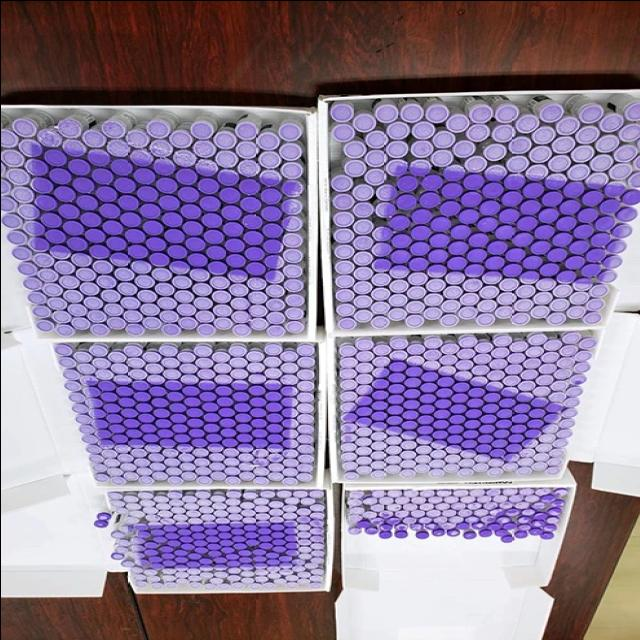vial: (34, 128, 59, 146), (278, 178, 302, 196), (278, 160, 302, 177), (24, 156, 46, 174), (44, 148, 66, 166), (214, 150, 237, 167), (28, 177, 52, 193), (276, 124, 300, 140), (70, 176, 92, 193), (0, 149, 22, 166), (154, 176, 177, 192), (152, 157, 172, 175), (214, 130, 234, 148), (75, 193, 96, 210), (408, 157, 430, 173), (441, 164, 463, 180), (460, 173, 482, 189), (100, 220, 122, 236), (95, 186, 117, 202), (108, 158, 130, 174), (260, 168, 282, 184), (148, 121, 170, 137), (620, 123, 639, 141), (472, 105, 492, 122), (49, 167, 69, 184), (397, 176, 418, 192), (597, 136, 618, 152), (556, 118, 577, 134), (409, 138, 430, 154), (85, 148, 106, 164), (82, 130, 103, 146), (202, 244, 225, 258), (32, 194, 55, 208), (278, 144, 301, 158), (540, 104, 560, 120), (434, 130, 454, 146), (551, 231, 571, 247), (465, 156, 485, 172), (520, 182, 540, 198), (22, 219, 42, 235), (182, 220, 202, 236), (135, 185, 155, 201), (134, 167, 154, 183), (108, 140, 128, 156), (126, 130, 146, 146), (257, 133, 277, 149), (88, 242, 109, 257), (600, 115, 622, 129), (590, 156, 612, 170), (399, 106, 421, 120), (412, 123, 434, 137), (496, 106, 518, 120), (429, 149, 451, 163), (439, 184, 461, 198), (532, 128, 554, 142), (542, 174, 564, 188), (548, 156, 570, 170), (124, 244, 146, 258), (58, 203, 80, 217), (10, 187, 32, 201), (241, 245, 263, 259), (280, 231, 302, 245), (18, 140, 40, 154), (150, 142, 172, 156), (100, 122, 122, 136), (258, 153, 280, 167), (330, 174, 349, 190), (368, 130, 387, 146), (171, 131, 190, 147), (386, 140, 406, 155), (498, 208, 518, 223), (516, 215, 536, 230), (552, 136, 572, 151), (221, 205, 241, 220), (174, 151, 194, 166), (193, 141, 213, 156), (465, 248, 486, 262), (331, 126, 352, 140), (332, 106, 353, 120), (426, 106, 447, 120), (149, 252, 170, 266), (119, 212, 140, 226), (156, 195, 177, 209), (237, 160, 258, 174), (419, 191, 437, 207), (461, 190, 479, 206), (70, 158, 88, 174), (200, 178, 218, 194), (456, 210, 478, 223), (505, 157, 527, 170), (558, 200, 580, 213), (176, 187, 198, 200), (354, 184, 374, 198), (344, 160, 364, 174), (365, 170, 385, 184), (366, 150, 386, 164), (344, 142, 364, 156), (581, 106, 601, 120), (610, 164, 630, 178), (438, 201, 458, 215), (447, 116, 467, 130), (516, 117, 536, 131), (570, 146, 590, 160), (452, 141, 472, 155), (482, 183, 502, 197), (500, 191, 520, 205), (503, 174, 523, 188), (524, 164, 544, 178), (563, 182, 583, 196), (530, 148, 550, 162), (28, 237, 48, 251), (64, 236, 84, 250), (44, 228, 64, 242), (186, 252, 206, 266), (166, 244, 186, 258), (123, 228, 143, 242), (80, 211, 100, 225), (40, 212, 60, 226), (283, 248, 303, 262), (262, 239, 282, 253), (203, 228, 223, 242), (6, 168, 26, 182), (140, 202, 160, 216), (117, 194, 137, 208), (261, 222, 281, 236), (260, 206, 280, 220), (240, 197, 260, 211), (14, 121, 34, 135), (196, 160, 216, 174), (175, 168, 195, 182), (131, 150, 151, 164), (64, 140, 84, 154), (236, 142, 256, 156), (192, 122, 212, 136), (235, 122, 255, 136), (69, 252, 90, 265), (281, 200, 302, 213), (376, 106, 394, 121), (374, 202, 393, 216), (388, 124, 407, 138), (537, 208, 556, 222), (224, 238, 243, 252), (220, 188, 239, 202), (95, 170, 114, 184), (575, 128, 597, 140), (492, 126, 514, 138), (408, 225, 428, 238), (494, 225, 514, 238), (510, 139, 530, 152), (484, 165, 504, 178), (540, 192, 560, 205), (599, 201, 619, 214), (263, 255, 283, 268), (224, 255, 244, 268), (145, 236, 165, 249), (184, 237, 204, 250), (142, 220, 162, 233), (53, 187, 73, 200), (222, 223, 242, 236), (260, 189, 280, 202), (239, 180, 259, 193), (216, 170, 236, 183), (537, 223, 553, 239), (426, 262, 444, 276), (376, 186, 394, 200), (355, 116, 373, 130), (616, 146, 634, 160), (480, 200, 498, 214), (570, 240, 588, 254), (520, 200, 538, 214), (587, 173, 605, 187), (16, 262, 34, 276), (110, 252, 128, 266), (170, 260, 188, 274), (107, 236, 125, 250), (64, 220, 82, 234), (285, 278, 303, 292), (20, 204, 38, 218), (164, 228, 182, 242), (100, 203, 118, 217), (162, 212, 180, 226), (180, 204, 198, 218), (282, 216, 300, 230), (113, 178, 134, 190), (387, 160, 406, 173), (49, 245, 68, 258), (244, 230, 263, 243), (200, 197, 219, 210), (332, 212, 352, 224), (388, 216, 408, 228), (616, 208, 636, 220), (477, 218, 497, 230), (512, 233, 532, 245), (529, 240, 549, 252), (579, 263, 599, 275), (467, 126, 487, 138), (484, 146, 504, 158), (572, 225, 592, 237), (594, 218, 614, 230), (36, 268, 56, 280), (90, 260, 110, 272), (133, 276, 153, 288), (153, 282, 173, 294), (188, 268, 208, 280), (264, 270, 284, 282), (244, 262, 264, 274), (202, 214, 222, 226), (372, 258, 389, 272), (389, 264, 406, 278), (410, 242, 428, 255), (334, 195, 352, 208), (429, 233, 447, 246), (582, 192, 600, 205), (570, 165, 588, 178), (608, 183, 626, 196), (35, 253, 53, 266), (6, 231, 24, 244), (114, 268, 132, 281), (242, 215, 260, 228), (333, 274, 352, 286), (564, 256, 583, 268), (584, 248, 603, 260), (246, 278, 265, 290), (207, 261, 226, 273), (0, 130, 15, 145), (391, 278, 407, 292), (524, 254, 540, 268), (422, 175, 439, 188), (483, 257, 503, 268), (527, 332, 545, 344), (336, 303, 354, 315), (352, 309, 370, 321), (369, 300, 387, 312), (387, 307, 405, 319), (406, 300, 424, 312), (334, 261, 352, 273), (406, 285, 424, 297), (334, 244, 352, 256), (408, 272, 426, 284), (408, 258, 426, 270), (391, 234, 409, 246), (428, 250, 446, 262), (448, 257, 466, 269), (396, 196, 414, 208), (411, 210, 429, 222), (488, 241, 506, 253), (556, 270, 574, 282), (612, 224, 630, 236), (546, 248, 564, 260), (557, 216, 575, 228), (578, 210, 596, 222), (64, 290, 82, 302), (59, 275, 77, 287), (140, 302, 158, 314), (120, 296, 138, 308), (76, 268, 94, 280), (54, 260, 72, 272), (136, 289, 154, 301), (157, 296, 175, 308), (132, 260, 150, 272), (213, 304, 231, 316), (192, 283, 210, 295), (284, 306, 302, 318), (209, 276, 227, 288), (85, 229, 103, 241), (282, 264, 300, 276), (123, 344, 142, 355), (355, 203, 371, 216), (432, 217, 448, 230), (623, 190, 639, 203), (592, 233, 608, 246), (85, 295, 101, 308), (2, 215, 18, 228), (1, 197, 14, 213), (203, 411, 220, 423), (389, 294, 406, 306), (354, 252, 371, 264), (335, 230, 352, 242), (462, 278, 479, 290), (174, 290, 191, 302), (177, 316, 194, 328), (153, 267, 170, 279), (260, 378, 280, 388), (368, 288, 388, 298), (42, 284, 62, 294), (122, 311, 142, 321), (116, 284, 136, 294), (130, 380, 148, 391), (561, 331, 579, 342), (337, 318, 355, 329), (477, 301, 495, 312), (502, 264, 520, 275), (519, 271, 537, 282), (78, 282, 96, 293), (212, 317, 230, 328), (148, 384, 164, 396), (426, 278, 442, 290), (354, 236, 370, 248), (354, 220, 370, 232), (516, 284, 532, 296), (536, 278, 552, 290), (451, 226, 467, 238), (506, 248, 522, 260), (250, 304, 266, 316), (266, 298, 282, 310), (266, 284, 282, 296), (229, 390, 248, 400), (173, 276, 190, 287), (134, 389, 148, 402), (100, 403, 118, 413), (164, 390, 182, 400), (146, 374, 164, 384), (248, 374, 266, 384), (178, 363, 196, 373), (158, 345, 176, 355), (439, 344, 457, 354), (544, 338, 562, 348), (353, 282, 371, 292), (373, 272, 388, 284), (441, 300, 459, 310), (496, 294, 514, 304), (448, 242, 466, 252), (586, 299, 604, 309), (608, 241, 626, 251), (46, 298, 64, 308), (103, 304, 121, 314), (98, 276, 116, 286), (13, 248, 31, 258), (158, 311, 176, 321), (161, 324, 179, 334), (232, 324, 250, 334), (230, 298, 248, 308), (232, 310, 250, 320), (248, 318, 266, 328), (284, 320, 302, 330), (284, 295, 302, 305), (228, 284, 246, 294), (354, 268, 370, 279), (604, 256, 620, 267), (142, 317, 158, 328), (228, 270, 244, 281), (96, 380, 113, 390), (247, 362, 264, 372), (230, 368, 247, 378), (213, 374, 230, 384), (213, 362, 230, 372), (280, 350, 297, 360), (107, 352, 124, 362), (89, 344, 106, 354), (422, 350, 439, 360), (440, 354, 457, 364), (424, 308, 441, 318), (477, 313, 494, 323), (177, 304, 194, 314), (196, 311, 213, 321), (266, 326, 283, 336), (467, 264, 481, 276), (626, 106, 640, 118), (373, 243, 388, 254), (391, 250, 406, 261), (212, 352, 230, 361), (127, 438, 143, 448), (97, 438, 113, 448), (296, 414, 312, 424), (280, 407, 296, 417), (138, 412, 154, 422), (100, 392, 116, 402), (217, 407, 233, 417), (202, 402, 218, 412), (233, 402, 249, 412), (182, 385, 198, 395), (164, 379, 180, 389), (297, 402, 313, 412), (264, 401, 280, 411), (248, 396, 264, 406), (297, 392, 313, 402), (248, 385, 264, 395), (198, 368, 214, 378), (281, 362, 297, 372), (246, 351, 262, 361), (298, 356, 314, 366), (229, 344, 245, 354), (194, 345, 210, 355), (178, 352, 194, 362), (144, 352, 160, 362), (74, 352, 90, 362), (340, 412, 356, 422), (355, 406, 371, 416), (340, 380, 356, 390), (524, 428, 540, 438), (435, 398, 451, 408), (371, 378, 387, 388), (339, 345, 355, 355), (372, 356, 388, 366), (389, 362, 405, 372), (498, 397, 514, 407), (512, 402, 528, 412), (356, 340, 372, 350), (420, 360, 436, 370), (485, 380, 501, 390), (516, 392, 532, 402), (536, 374, 552, 384), (476, 342, 492, 352), (538, 362, 554, 372), (573, 362, 589, 372), (578, 338, 594, 348), (372, 316, 388, 326), (335, 290, 351, 300), (354, 296, 370, 306), (407, 315, 423, 325), (496, 306, 512, 316), (512, 314, 528, 324), (446, 272, 462, 282), (479, 286, 495, 296), (514, 300, 530, 310), (549, 313, 565, 323), (500, 278, 516, 288), (568, 306, 584, 316), (554, 285, 570, 295), (571, 292, 587, 302), (574, 279, 590, 289), (591, 285, 607, 295), (600, 272, 616, 282), (31, 306, 47, 316), (52, 310, 68, 320), (72, 318, 88, 328), (92, 324, 108, 334), (68, 304, 84, 314), (27, 292, 43, 302), (108, 318, 124, 328), (102, 290, 118, 300), (197, 324, 213, 334), (194, 297, 210, 307), (212, 292, 228, 302), (268, 312, 284, 322), (248, 292, 264, 302), (544, 411, 558, 422), (455, 360, 472, 369), (88, 312, 105, 321), (120, 407, 135, 417), (298, 380, 313, 390), (386, 414, 401, 424), (356, 351, 371, 361), (467, 386, 482, 396), (483, 392, 498, 402), (373, 344, 388, 354), (406, 354, 421, 364), (391, 338, 406, 348), (408, 344, 423, 354), (475, 353, 490, 363), (494, 336, 509, 346), (459, 308, 474, 318), (444, 286, 459, 296), (461, 294, 476, 304), (374, 228, 389, 238), (484, 271, 499, 281), (471, 235, 486, 245), (541, 264, 556, 274), (629, 172, 639, 187), (36, 320, 51, 330), (146, 462, 164, 470), (156, 438, 174, 446), (107, 423, 123, 432), (152, 418, 170, 426), (170, 423, 188, 431), (250, 429, 266, 438), (151, 408, 167, 417), (86, 399, 102, 408), (185, 408, 201, 417), (249, 407, 265, 416), (110, 364, 128, 372), (199, 380, 215, 389), (281, 386, 297, 395), (231, 380, 247, 389), (146, 363, 162, 372), (230, 357, 246, 366), (296, 346, 314, 354), (162, 357, 178, 366), (356, 384, 372, 393), (402, 399, 418, 408), (543, 403, 561, 411), (534, 387, 550, 396), (548, 392, 564, 401), (423, 337, 439, 346), (523, 360, 541, 368), (510, 341, 526, 350), (541, 352, 557, 361), (0, 178, 9, 194), (196, 466, 210, 476), (123, 418, 137, 428), (78, 424, 92, 434), (106, 412, 120, 422), (84, 386, 98, 396), (170, 402, 184, 412), (152, 398, 166, 408), (96, 369, 110, 379), (58, 356, 72, 366), (184, 396, 198, 406), (216, 385, 230, 395), (266, 356, 280, 366), (56, 345, 70, 355), (371, 420, 385, 430), (340, 402, 354, 412), (433, 418, 447, 428), (372, 400, 386, 410), (420, 392, 434, 402), (438, 376, 452, 386), (528, 407, 542, 417), (390, 350, 404, 360), (552, 380, 566, 390), (442, 314, 456, 324), (424, 294, 438, 304), (57, 324, 71, 334), (26, 278, 40, 288), (142, 444, 159, 452), (92, 429, 109, 437), (138, 424, 155, 432), (88, 410, 105, 418), (180, 375, 197, 383), (502, 376, 519, 384), (206, 433, 221, 442), (163, 369, 178, 378), (401, 419, 416, 428), (418, 403, 433, 412), (372, 368, 387, 377), (388, 372, 403, 381), (532, 398, 547, 407), (509, 352, 524, 361), (110, 552, 126, 560), (296, 514, 312, 522), (89, 463, 105, 471), (116, 454, 132, 462), (147, 454, 163, 462), (114, 443, 130, 451), (111, 434, 127, 442), (190, 438, 206, 446), (172, 434, 188, 442), (208, 470, 224, 478), (222, 448, 238, 456), (296, 454, 312, 462), (282, 439, 298, 447), (218, 419, 234, 427), (281, 418, 297, 426), (168, 414, 184, 422), (74, 414, 90, 422), (64, 381, 80, 389), (134, 403, 150, 411), (80, 376, 96, 384), (217, 397, 233, 405), (129, 370, 145, 378), (264, 391, 280, 399), (280, 374, 296, 382), (264, 368, 280, 376), (127, 358, 143, 366), (296, 370, 312, 378), (196, 358, 212, 366), (264, 345, 280, 353), (93, 358, 109, 366), (340, 422, 356, 430), (354, 417, 370, 425), (516, 456, 532, 464), (506, 443, 522, 451), (448, 414, 464, 422), (495, 420, 511, 428), (464, 408, 480, 416), (450, 404, 466, 412), (403, 389, 419, 397), (356, 374, 372, 382), (340, 369, 356, 377), (420, 383, 436, 391), (496, 410, 512, 418), (405, 367, 421, 375), (438, 366, 454, 374), (470, 376, 486, 384), (501, 388, 517, 396), (560, 408, 576, 416), (472, 366, 488, 374), (487, 370, 503, 378), (490, 359, 506, 367), (505, 364, 521, 372), (520, 370, 536, 378), (459, 337, 475, 345), (492, 348, 508, 356), (554, 369, 570, 377), (568, 374, 584, 382), (526, 347, 542, 355), (561, 346, 577, 354), (532, 306, 548, 314), (552, 300, 568, 308), (93, 472, 107, 481), (122, 471, 136, 480), (140, 434, 158, 441), (189, 427, 203, 436), (82, 434, 96, 443), (68, 393, 82, 402), (79, 363, 93, 372), (340, 357, 354, 366), (356, 362, 370, 371), (404, 378, 418, 387), (458, 349, 472, 358), (558, 358, 572, 367), (536, 293, 550, 302), (165, 466, 180, 474), (125, 428, 140, 436), (221, 438, 236, 446), (204, 424, 219, 432), (298, 424, 313, 432), (250, 418, 265, 426), (91, 420, 106, 428), (116, 386, 131, 394), (63, 370, 78, 378), (400, 450, 415, 458), (459, 459, 474, 467), (402, 410, 417, 418), (387, 405, 402, 413), (356, 396, 371, 404), (371, 390, 386, 398), (493, 429, 508, 437), (480, 414, 495, 422), (452, 394, 467, 402), (482, 404, 497, 412), (540, 424, 555, 432), (452, 382, 467, 390), (233, 424, 250, 431), (534, 444, 551, 451), (237, 442, 250, 451), (491, 448, 504, 457), (462, 530, 476, 538), (145, 574, 159, 582), (214, 570, 228, 578), (130, 550, 144, 558), (212, 556, 226, 564), (224, 552, 238, 560), (258, 542, 272, 550), (178, 542, 194, 549), (158, 544, 172, 552), (144, 513, 158, 521), (187, 516, 201, 524), (182, 502, 198, 509), (254, 504, 268, 512), (282, 511, 296, 519), (308, 490, 322, 498), (138, 476, 152, 484), (120, 462, 134, 470), (136, 466, 150, 474), (180, 472, 196, 479), (131, 449, 145, 457), (164, 458, 178, 466), (196, 476, 210, 484), (178, 453, 192, 461), (178, 442, 192, 450), (194, 458, 208, 466), (193, 448, 207, 456), (224, 476, 238, 484), (252, 476, 266, 484), (253, 458, 267, 466), (238, 453, 252, 461), (224, 457, 238, 465), (208, 453, 222, 461), (207, 442, 221, 450), (267, 453, 281, 461), (282, 458, 296, 466), (296, 464, 312, 471), (298, 444, 312, 452), (282, 448, 296, 456), (266, 443, 280, 451), (266, 434, 280, 442), (252, 438, 266, 446), (236, 434, 250, 442), (298, 434, 312, 442), (186, 418, 200, 426), (267, 424, 281, 432), (282, 429, 296, 437), (266, 412, 280, 420), (236, 414, 250, 422), (282, 398, 296, 406), (546, 507, 560, 515), (540, 494, 554, 502), (436, 488, 450, 496), (473, 463, 487, 471), (457, 468, 471, 476), (429, 469, 443, 477), (342, 452, 356, 460), (341, 442, 355, 450), (356, 437, 370, 445), (342, 433, 356, 441), (371, 441, 385, 449), (400, 440, 414, 448), (356, 427, 370, 435), (474, 454, 488, 462), (417, 435, 431, 443), (402, 430, 416, 438), (386, 426, 400, 434), (504, 452, 518, 460), (462, 438, 476, 446), (447, 434, 461, 442), (418, 425, 432, 433), (492, 438, 506, 446), (478, 434, 492, 442), (463, 429, 477, 437), (448, 424, 462, 432), (418, 414, 432, 422), (388, 395, 402, 403), (434, 409, 448, 417), (464, 420, 478, 428), (507, 434, 523, 441), (522, 439, 536, 447), (552, 438, 566, 446), (511, 424, 525, 432), (388, 384, 402, 392), (436, 388, 450, 396), (467, 398, 481, 406), (528, 419, 542, 427), (422, 372, 436, 380), (518, 382, 534, 389), (564, 396, 578, 404), (566, 386, 580, 394), (574, 352, 590, 359), (584, 314, 598, 322), (102, 449, 114, 458), (86, 443, 98, 452), (480, 423, 492, 432), (0, 158, 6, 176), (198, 505, 213, 512), (200, 392, 215, 399), (452, 489, 467, 496), (369, 461, 384, 468), (386, 436, 401, 443), (539, 434, 554, 441), (478, 528, 491, 536), (226, 566, 239, 574), (174, 554, 187, 562), (187, 552, 200, 560), (230, 534, 243, 542), (190, 532, 203, 540), (180, 462, 193, 470), (220, 428, 233, 436), (72, 404, 85, 412), (119, 397, 132, 405), (115, 376, 128, 384), (356, 519, 369, 527), (378, 522, 391, 530), (545, 466, 558, 474), (401, 469, 414, 477), (372, 431, 385, 439), (130, 537, 144, 544), (136, 531, 150, 538), (138, 491, 152, 498), (260, 490, 274, 497), (134, 458, 148, 465), (157, 429, 171, 436), (297, 473, 311, 480), (238, 462, 252, 469), (252, 448, 266, 455), (424, 523, 438, 530), (346, 498, 360, 505), (429, 459, 443, 466), (431, 449, 445, 456), (446, 445, 460, 452), (477, 444, 491, 451), (433, 430, 447, 437), (341, 392, 355, 399), (456, 372, 470, 379), (540, 532, 552, 540), (226, 574, 238, 582), (187, 560, 199, 568), (162, 557, 174, 565), (134, 558, 146, 566), (193, 538, 205, 546), (177, 527, 189, 535), (202, 528, 218, 534), (184, 510, 200, 516), (296, 530, 308, 538), (282, 520, 298, 526), (213, 502, 225, 510), (208, 495, 224, 501), (276, 490, 288, 498), (110, 476, 122, 484), (169, 476, 181, 484), (90, 454, 102, 462), (268, 472, 280, 480), (269, 462, 281, 470), (283, 468, 295, 476), (364, 526, 376, 534), (349, 515, 361, 523), (442, 496, 458, 502), (474, 496, 490, 502), (500, 488, 516, 494), (504, 462, 516, 470), (372, 470, 384, 478), (446, 454, 458, 462), (432, 440, 444, 448), (546, 457, 558, 465), (372, 411, 384, 419), (551, 448, 563, 456), (558, 428, 570, 436), (560, 418, 572, 426), (227, 513, 240, 520), (167, 491, 180, 498), (489, 468, 502, 475), (417, 446, 430, 453), (252, 562, 267, 568), (174, 521, 189, 527), (409, 510, 424, 516), (488, 510, 503, 516), (386, 504, 401, 510), (459, 496, 474, 502), (469, 489, 484, 495), (341, 462, 356, 468), (511, 415, 526, 421), (634, 154, 640, 169), (208, 549, 219, 557), (97, 512, 108, 520), (495, 529, 507, 536), (164, 581, 176, 588), (246, 582, 260, 588), (186, 574, 198, 581), (208, 577, 222, 583), (160, 568, 174, 574), (252, 568, 266, 574), (278, 569, 292, 575), (266, 566, 280, 572), (238, 563, 252, 569), (237, 556, 251, 562), (148, 555, 160, 562), (276, 555, 290, 561), (310, 556, 324, 562), (272, 546, 286, 552), (110, 532, 124, 538), (258, 534, 272, 540), (243, 531, 257, 537), (188, 524, 202, 530), (215, 524, 229, 530), (130, 510, 144, 516), (126, 503, 140, 509), (138, 500, 152, 506), (153, 496, 167, 502), (270, 531, 284, 537), (242, 524, 256, 530), (228, 520, 242, 526), (214, 517, 228, 523), (200, 514, 214, 520), (170, 506, 184, 512), (309, 535, 323, 541), (214, 510, 226, 517), (168, 499, 182, 505), (268, 516, 282, 522), (240, 510, 254, 516), (226, 506, 240, 512), (196, 498, 210, 504), (195, 492, 209, 498), (225, 498, 239, 504), (238, 501, 252, 507), (253, 498, 267, 504), (244, 491, 256, 498), (268, 508, 282, 514), (268, 501, 282, 507), (310, 504, 324, 510), (300, 498, 314, 504), (282, 504, 296, 510), (294, 490, 306, 497), (152, 472, 166, 478), (162, 448, 176, 454), (254, 467, 266, 474), (395, 530, 407, 537), (543, 524, 555, 531), (505, 508, 517, 515), (531, 512, 545, 518), (393, 510, 407, 516), (426, 510, 440, 516), (441, 509, 455, 515), (418, 502, 432, 508), (378, 497, 392, 503), (394, 497, 408, 503), (492, 495, 506, 501), (508, 496, 522, 502), (524, 496, 538, 502), (552, 499, 564, 506), (518, 488, 532, 494), (518, 467, 530, 474), (414, 464, 428, 470), (356, 466, 370, 472), (344, 472, 358, 478), (400, 460, 414, 466), (386, 455, 398, 462), (371, 452, 385, 458), (358, 447, 370, 454), (385, 446, 399, 452), (414, 456, 428, 462), (488, 459, 502, 465), (516, 530, 526, 538), (224, 491, 240, 496), (500, 536, 513, 542), (240, 576, 253, 582), (240, 570, 253, 576), (194, 546, 207, 552), (232, 543, 245, 549), (291, 558, 304, 564), (285, 549, 298, 555), (245, 539, 258, 545), (172, 548, 185, 554), (115, 546, 128, 552), (164, 532, 177, 538), (217, 532, 230, 538), (92, 520, 105, 526), (270, 524, 283, 530), (310, 512, 323, 518), (105, 460, 118, 466), (240, 472, 253, 478), (210, 462, 223, 468), (402, 518, 415, 524), (448, 516, 461, 522), (546, 517, 559, 523), (451, 502, 464, 508), (435, 502, 448, 508), (553, 488, 566, 494), (349, 491, 362, 497), (386, 466, 399, 472), (379, 509, 390, 516), (150, 581, 162, 587), (231, 582, 243, 588), (308, 582, 320, 588), (133, 573, 145, 579), (162, 574, 174, 580), (254, 575, 266, 581), (309, 574, 321, 580), (268, 572, 280, 578), (200, 572, 212, 578), (144, 568, 156, 574), (122, 560, 134, 566), (310, 568, 322, 574), (292, 566, 304, 572), (278, 562, 290, 568), (253, 556, 265, 562), (226, 560, 238, 566), (213, 563, 225, 569), (199, 564, 211, 570), (174, 562, 186, 568), (149, 562, 161, 568), (160, 552, 172, 558), (200, 558, 212, 564), (220, 546, 232, 552), (238, 550, 250, 556), (266, 552, 278, 558), (253, 549, 265, 555), (304, 562, 316, 568), (298, 552, 310, 558), (220, 538, 232, 544), (208, 542, 220, 548), (144, 548, 156, 554), (144, 542, 156, 548), (132, 544, 144, 550), (152, 536, 164, 542), (150, 530, 162, 536), (118, 525, 130, 531), (134, 523, 146, 529), (148, 522, 160, 528), (180, 536, 192, 542), (310, 550, 322, 556), (298, 546, 310, 552), (285, 542, 297, 548), (231, 528, 243, 534), (206, 535, 218, 541), (164, 525, 176, 531), (124, 516, 136, 522), (110, 500, 122, 506), (108, 492, 120, 498), (124, 496, 136, 502), (161, 517, 173, 523), (174, 514, 186, 520), (156, 503, 168, 509), (310, 542, 322, 548), (298, 539, 310, 545), (258, 528, 270, 534), (310, 528, 322, 534), (297, 524, 309, 530), (256, 520, 268, 526), (242, 516, 254, 522), (255, 513, 267, 519), (183, 496, 195, 502), (310, 519, 322, 525), (296, 507, 308, 513), (282, 478, 294, 484), (378, 532, 390, 538), (446, 530, 458, 536), (441, 522, 453, 528), (456, 522, 468, 528), (486, 522, 498, 528), (502, 522, 514, 528), (518, 524, 530, 530), (516, 516, 528, 522), (496, 516, 508, 522), (522, 508, 534, 514), (362, 511, 374, 517), (474, 509, 486, 515), (467, 502, 479, 508), (412, 497, 424, 503), (428, 496, 440, 502), (500, 502, 512, 508), (515, 502, 527, 508), (532, 503, 544, 509), (536, 488, 548, 494), (486, 488, 498, 494), (421, 490, 433, 496), (404, 490, 416, 496), (388, 490, 400, 496), (533, 462, 545, 468), (444, 464, 456, 470), (521, 450, 533, 456), (270, 539, 284, 544), (283, 528, 297, 533), (106, 468, 120, 473), (369, 504, 383, 509), (362, 498, 376, 503), (482, 502, 496, 507), (461, 451, 475, 456), (533, 454, 547, 459), (529, 528, 540, 534), (135, 580, 146, 586), (175, 570, 186, 576), (131, 566, 142, 572), (348, 528, 359, 534), (416, 532, 427, 538), (466, 516, 477, 522), (351, 507, 362, 513), (158, 511, 171, 516), (285, 498, 298, 503), (371, 491, 384, 496), (356, 458, 369, 463), (188, 580, 198, 586), (202, 582, 212, 588), (218, 582, 228, 588), (264, 582, 274, 588), (176, 578, 186, 584), (286, 574, 296, 580), (189, 568, 199, 574), (297, 571, 309, 576), (268, 559, 278, 565), (168, 540, 178, 546), (116, 508, 126, 514), (142, 507, 154, 512), (286, 534, 296, 540), (224, 468, 236, 473), (388, 517, 398, 523), (395, 523, 405, 529), (410, 523, 420, 529), (432, 528, 442, 534), (419, 516, 429, 522), (472, 522, 482, 528), (532, 520, 542, 526), (484, 516, 494, 522), (403, 504, 415, 509), (457, 510, 471, 514), (297, 578, 308, 583), (372, 518, 381, 524), (176, 578, 186, 583), (274, 578, 286, 582), (118, 540, 130, 544), (203, 522, 215, 526), (434, 518, 446, 522), (286, 582, 297, 586), (637, 137, 640, 149)
